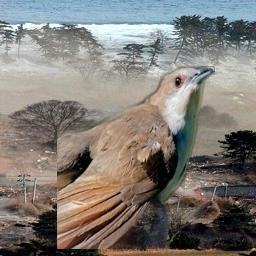Cuckoo: (57, 66, 215, 249)
